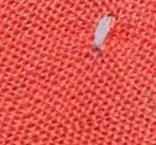hole: (88, 14, 119, 55)
